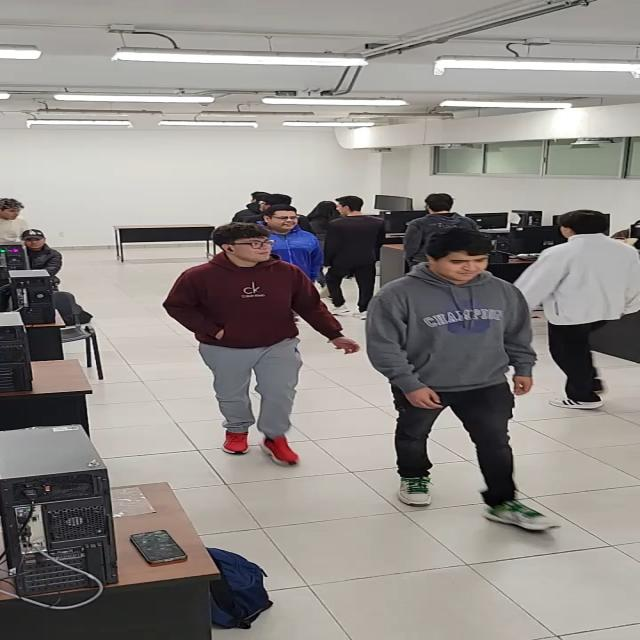Persona: (370, 228, 560, 534), (172, 221, 336, 470), (528, 206, 640, 413), (322, 192, 379, 314), (258, 202, 320, 274)
